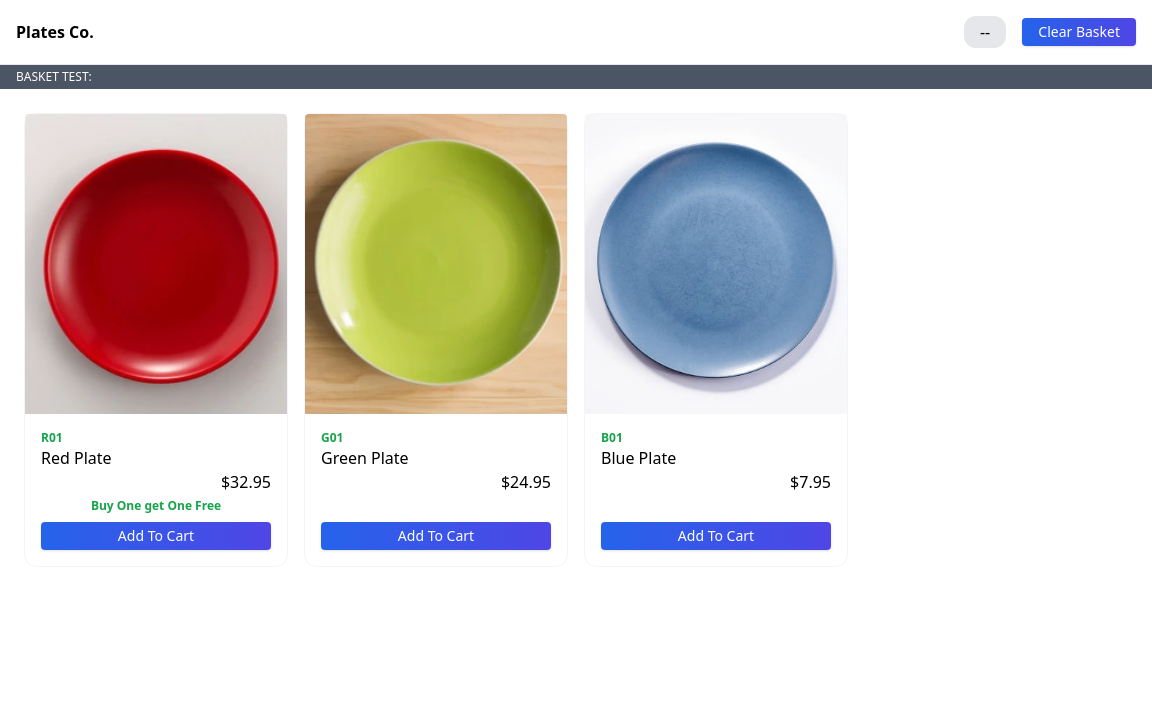
Test case: Basket: R01, R01 = $54.37
The width and height of the screenshot is (1152, 720).
Check: the text "--" is shown, box [964, 16, 1006, 48]
Step 1. Click the button with test id "R01" → click(156, 536), box [41, 522, 271, 550]
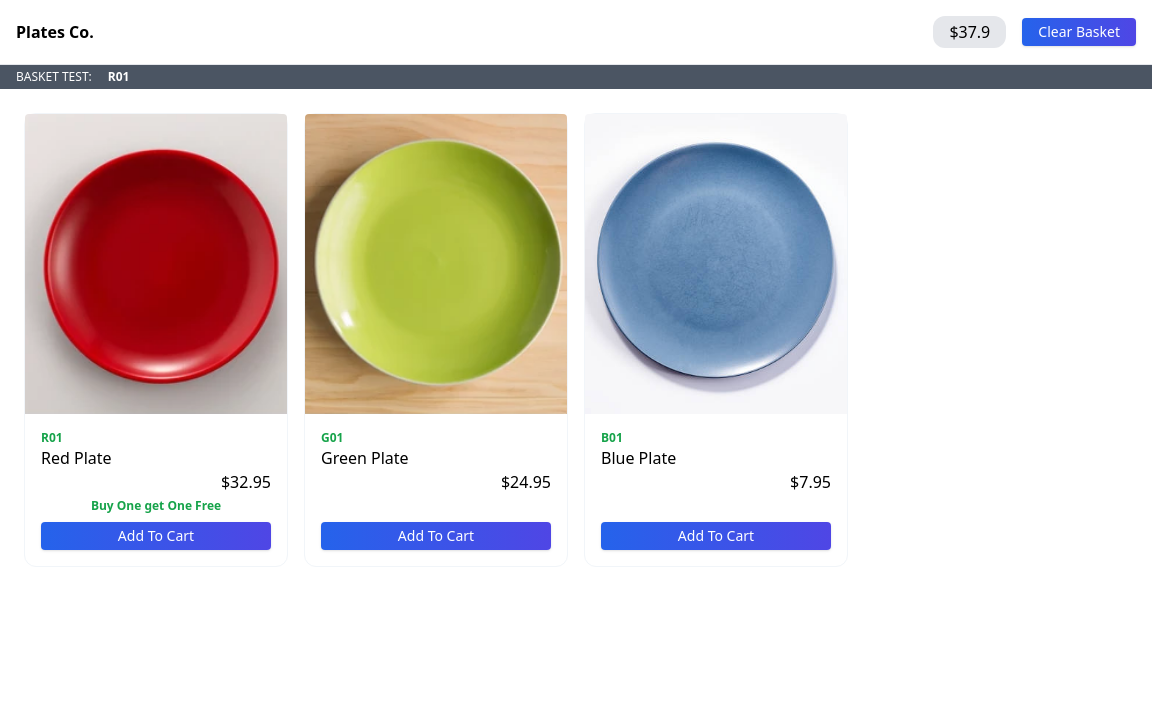
Step 2. Click the button with test id "R01" → click(156, 536), box [41, 522, 271, 550]
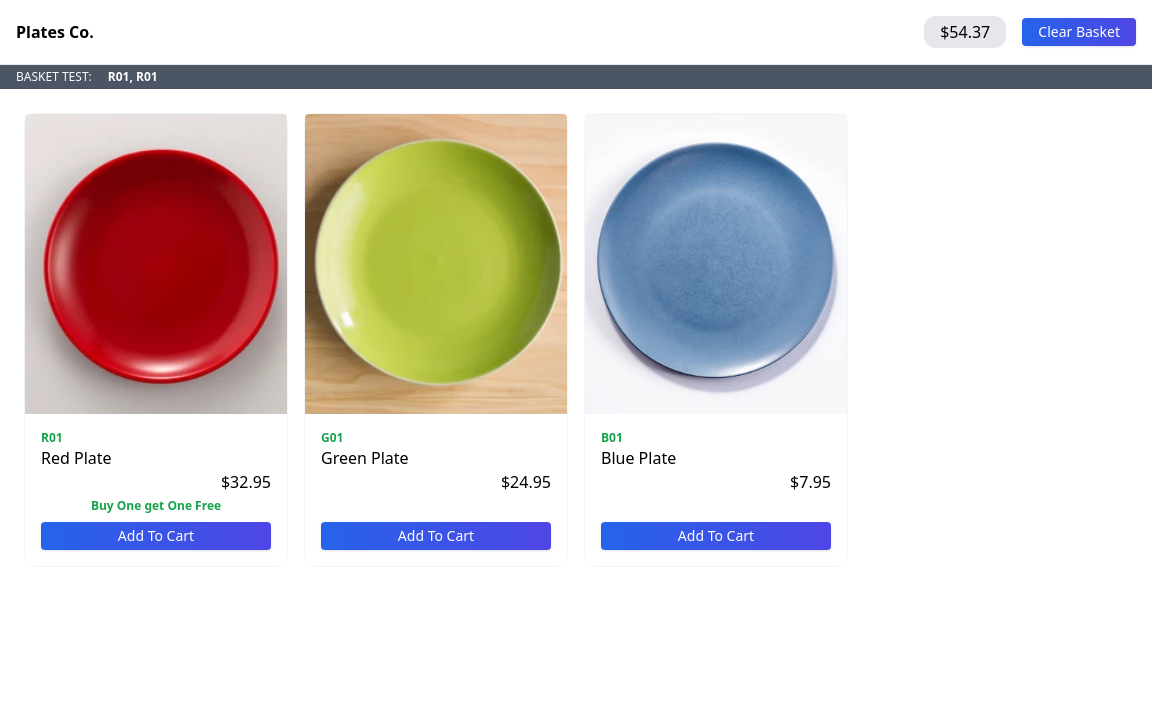
Check: the text "$54.37" is shown, box [924, 16, 1006, 48]
